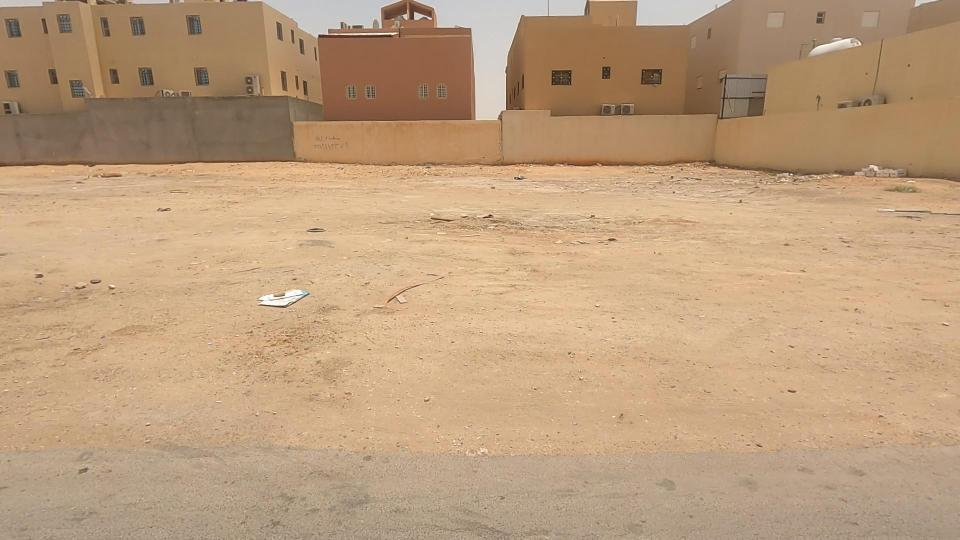GARBAGE: (218, 256, 338, 346), (821, 131, 943, 214), (727, 131, 821, 224), (350, 259, 442, 331)
